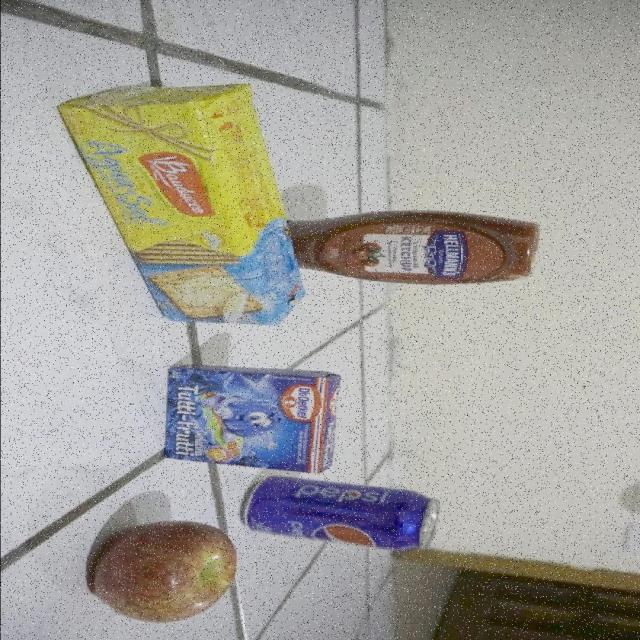Apple: (83, 518, 240, 626)
Cracker: (59, 84, 294, 331)
Gelatine: (158, 361, 347, 473)
Ketchup: (301, 212, 546, 287)
SodaCan: (240, 480, 441, 552)
